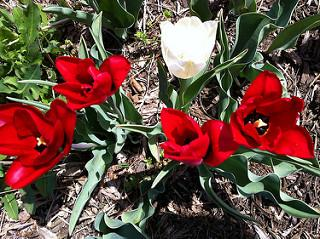tulip: (230, 70, 317, 160), (0, 99, 80, 188), (158, 107, 231, 169), (53, 54, 129, 109), (161, 16, 218, 79)
